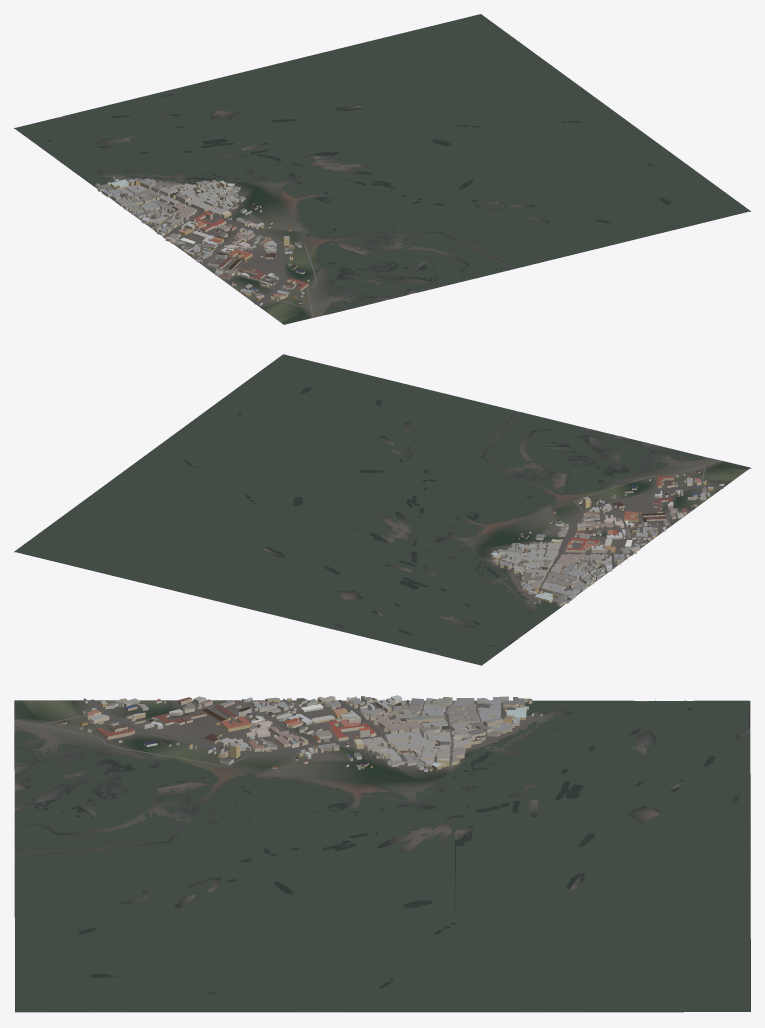
The picture shows the model from 3 angles, top to bottom: view 1: azimuth 30°, elevation 25°; view 2: azimuth 150°, elevation 25°; view 3: azimuth 270°, elevation 25°; orthographic projection. The views are drawn at different scales.
Visible parts, largest first — view 1: water, ground, buildings, roads; view 2: water, ground, buildings, roads; view 3: water, ground, buildings, roads.
Part boxes in pixels (bbox=[...]): water: bbox=[15, 14, 749, 313]; ground: bbox=[14, 18, 750, 324]; buildings: bbox=[95, 176, 309, 305]; roads: bbox=[122, 193, 316, 317]; water: bbox=[15, 354, 703, 664]; ground: bbox=[14, 358, 750, 665]; buildings: bbox=[490, 469, 724, 606]; roads: bbox=[490, 460, 723, 596]; water: bbox=[15, 700, 750, 1011]; ground: bbox=[14, 700, 750, 1012]; buildings: bbox=[58, 695, 542, 771]; roads: bbox=[14, 699, 504, 767].
Size of the model in its own units: 1409 by 28.2 by 1402.
